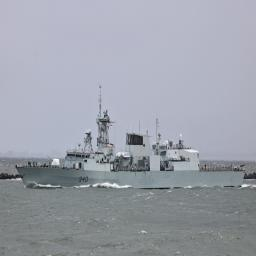Fragata: (16, 81, 246, 191)
